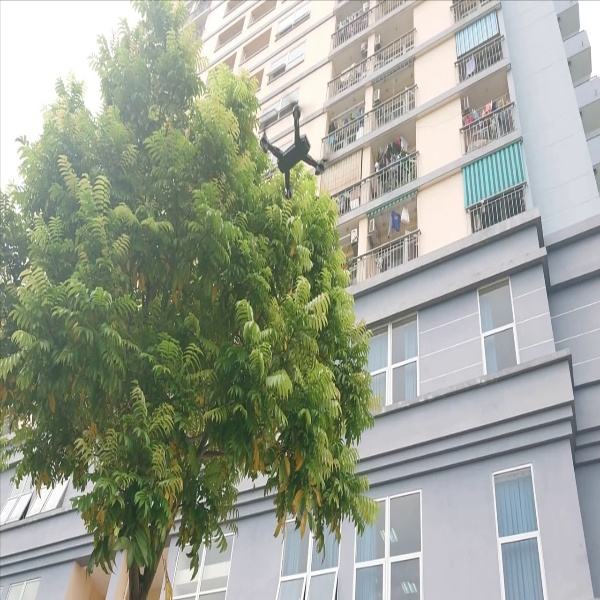drone: (244, 100, 333, 206)
